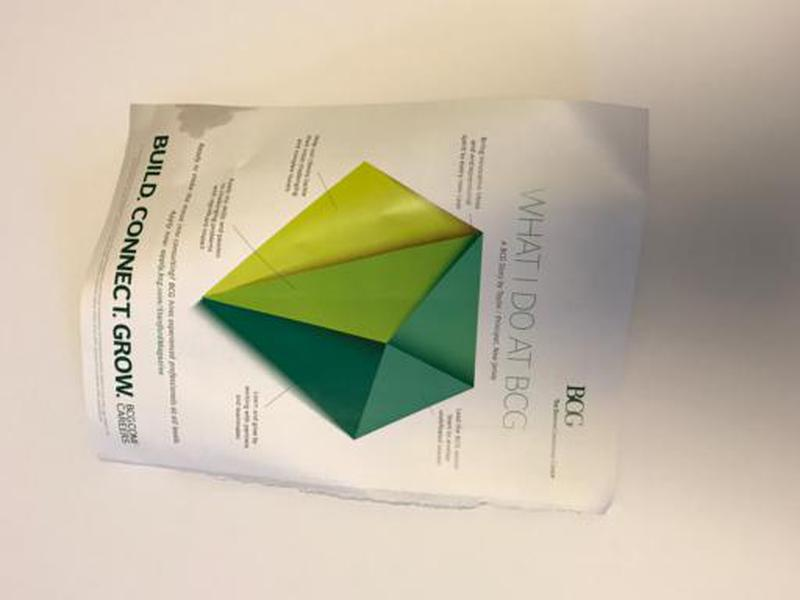paper: (72, 97, 656, 516)
